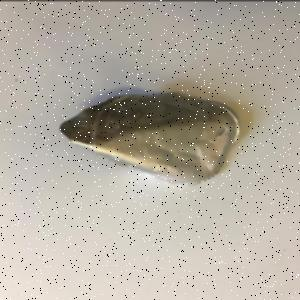Trash: (59, 91, 241, 186)
